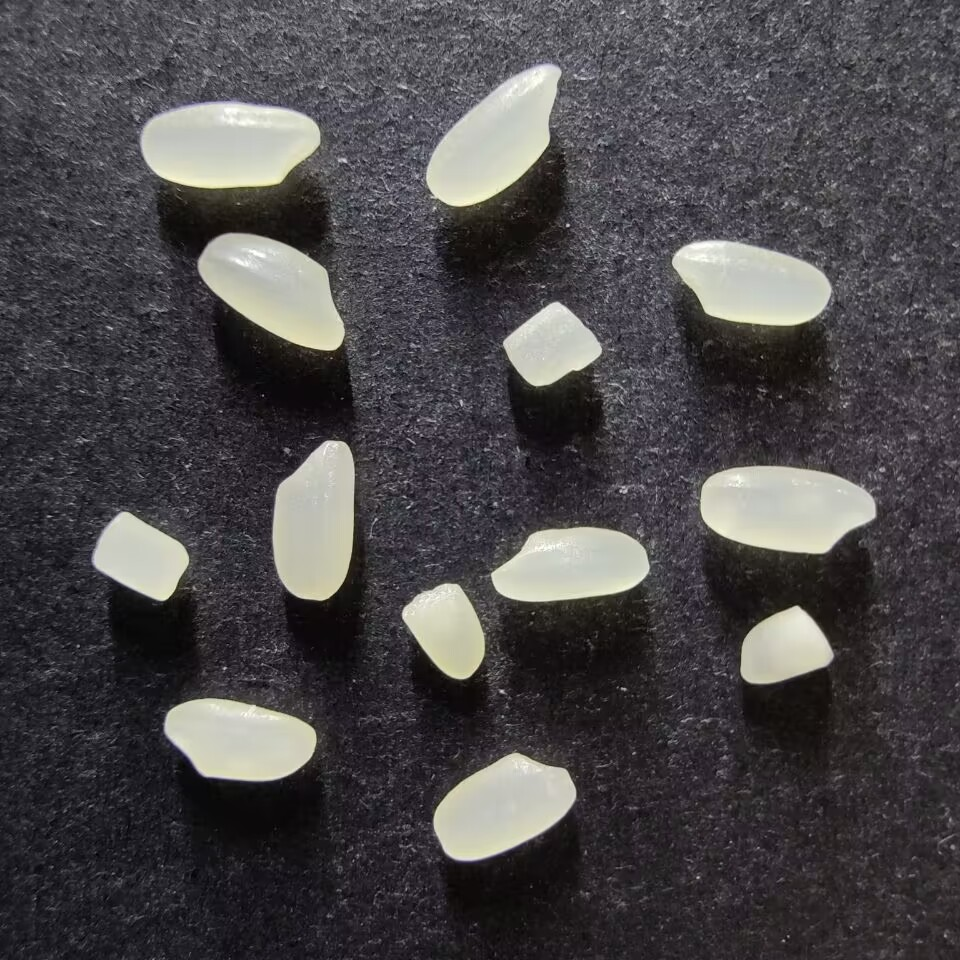broken: (91, 510, 189, 604), (500, 300, 603, 388), (399, 581, 486, 681), (737, 604, 835, 685)
rice: (425, 60, 562, 207), (196, 232, 344, 353), (431, 751, 575, 862), (699, 465, 876, 555), (140, 102, 320, 190), (669, 241, 831, 327), (270, 438, 354, 601), (162, 697, 317, 783), (490, 525, 649, 603)
